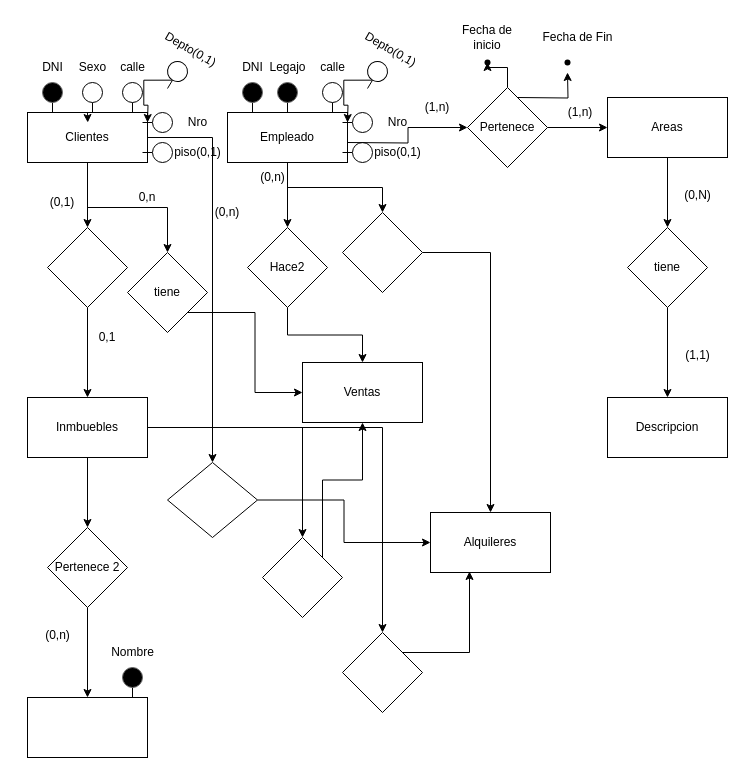
Image size: 745x776. Some labels were removed from this diagram. The shapes that lost their labels are listed below. From the top down, each one's box as (x1, y1, x2, y2) in pixels, then its label:
(46, 226, 128, 308): Dueño
(342, 212, 422, 292): hace
(166, 462, 258, 538): alquila
(262, 536, 342, 618): Esta en
(342, 632, 422, 712): Esta en 2
(26, 696, 148, 758): Tipo
